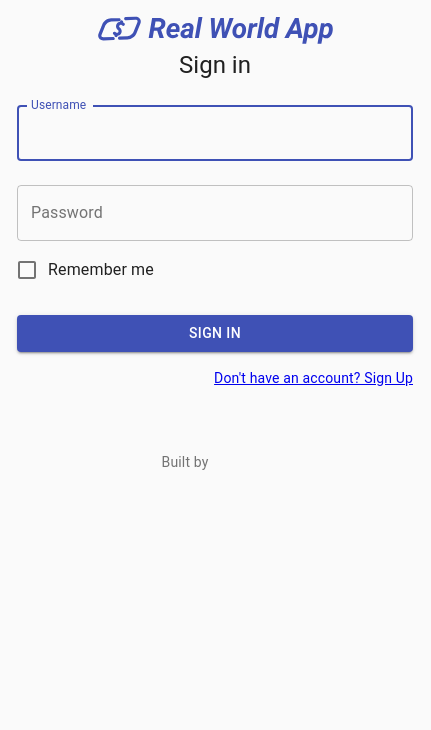
create account › show password length error message
Click the link with test id "signup" at (314, 378), box x1=214 y1=370 x2=413 y2=386
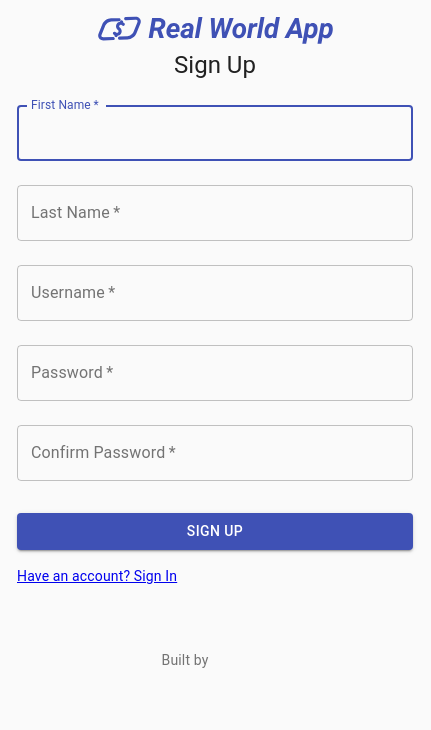
Type "123" into the password field named "password" at (215, 373), box x1=17 y1=345 x2=413 y2=401
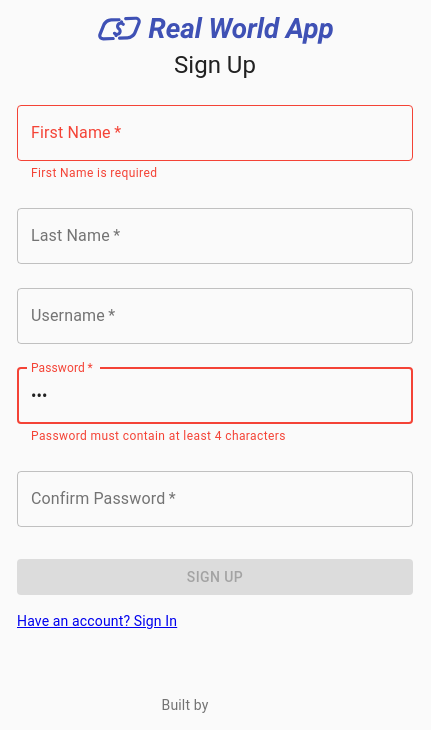
Expected: the text with test id "signup-password" reads "Password must contain at least 4 characters", x1=31 y1=429 x2=286 y2=443
